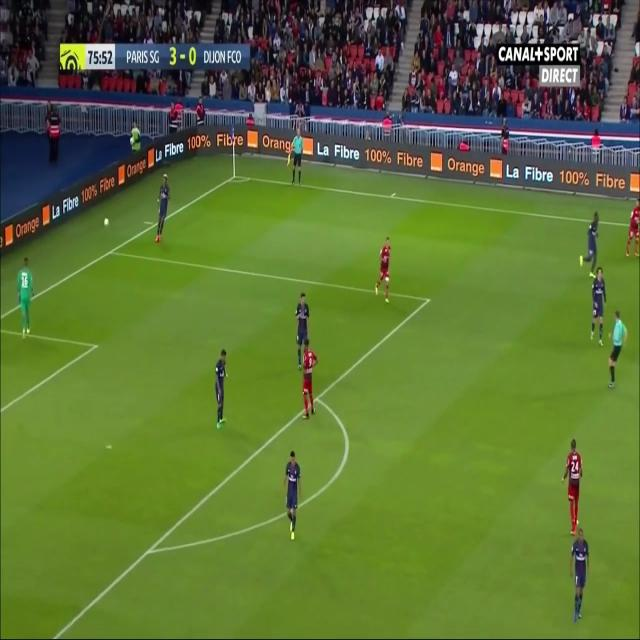Ball: (102, 215, 110, 230)
Goalkeeper: (14, 253, 36, 342)
Player: (568, 526, 593, 626), (281, 448, 304, 541), (562, 438, 583, 538), (577, 208, 602, 280), (589, 266, 608, 349), (153, 170, 172, 248), (372, 234, 392, 306), (213, 348, 230, 432), (302, 337, 318, 423), (295, 292, 311, 371), (622, 195, 640, 261)
Referee: (606, 306, 629, 391), (288, 124, 305, 190)
